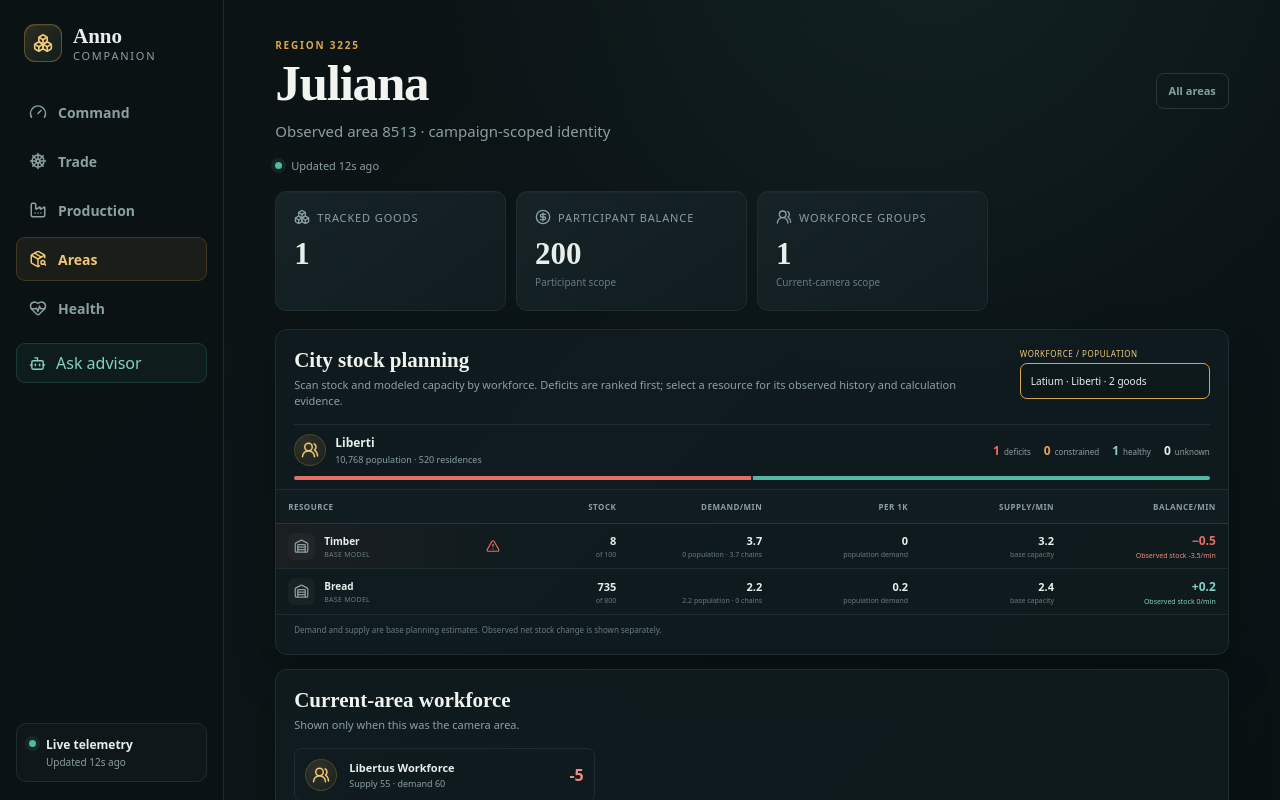
Test: first-class management dashboard › groups the stock selector by producing region and workforce on city detail
The image size is (1280, 800).
Expected: the heading "Juliana" is shown, [275, 54, 428, 111]
Select "Albion · Waders · 1 goods" in the dropdown named "Resource workforce" at (1115, 381), box [1020, 363, 1210, 399]
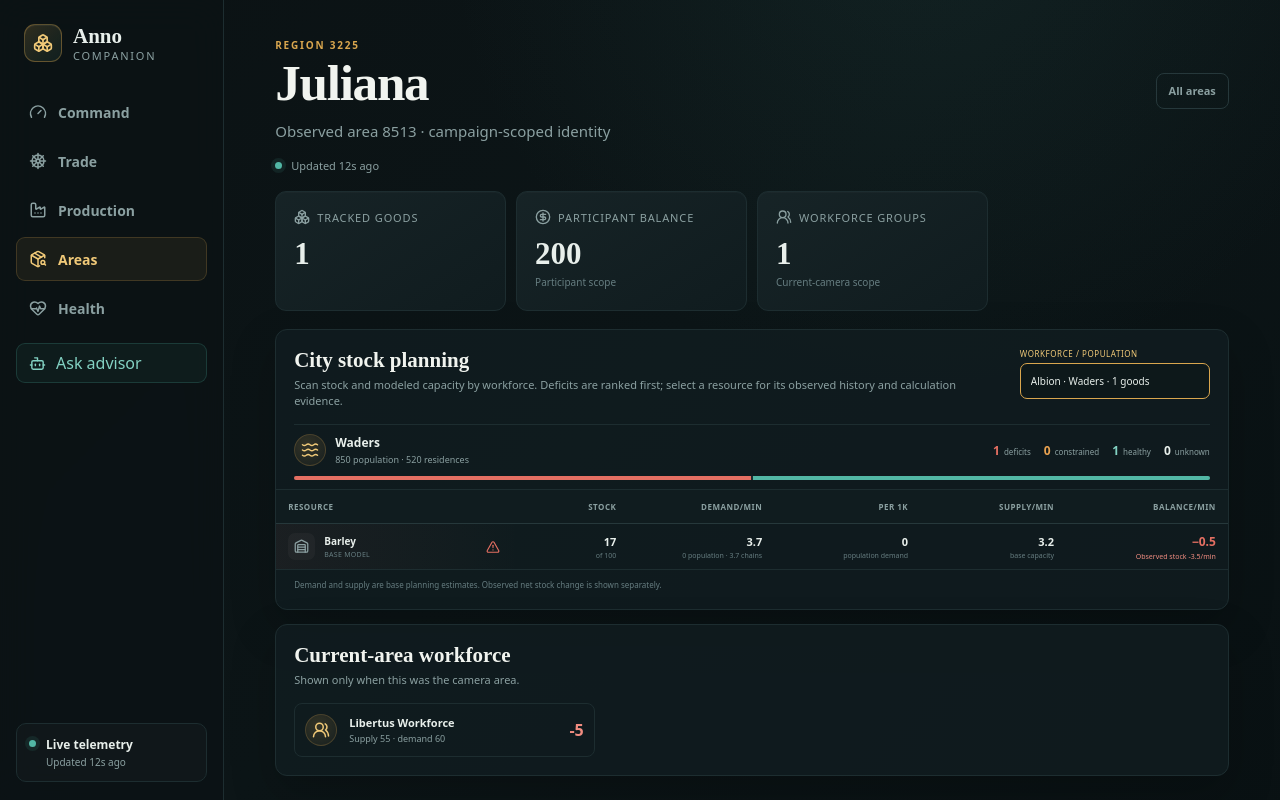
Now the text "850 population · 520 residences" is shown, box [335, 453, 469, 466]
Now the button with aria-label "View Barley stock history" is shown, box [288, 533, 502, 560]
